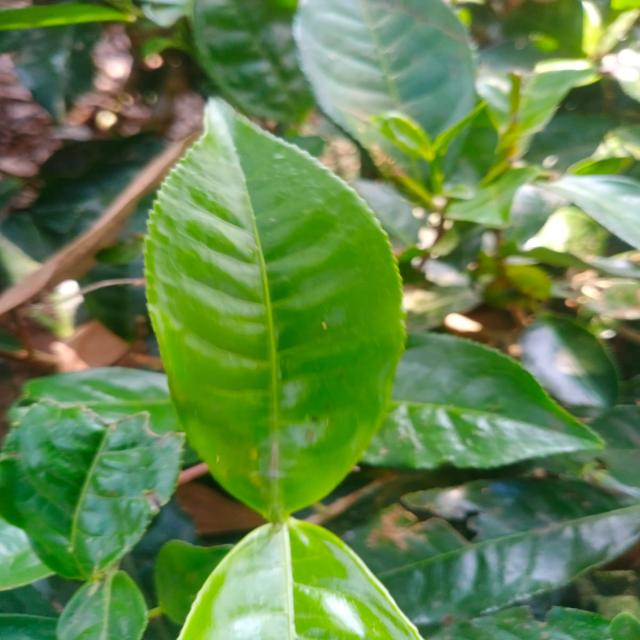Category D(7+ days, Not for Tea): (68, 73, 445, 523)
